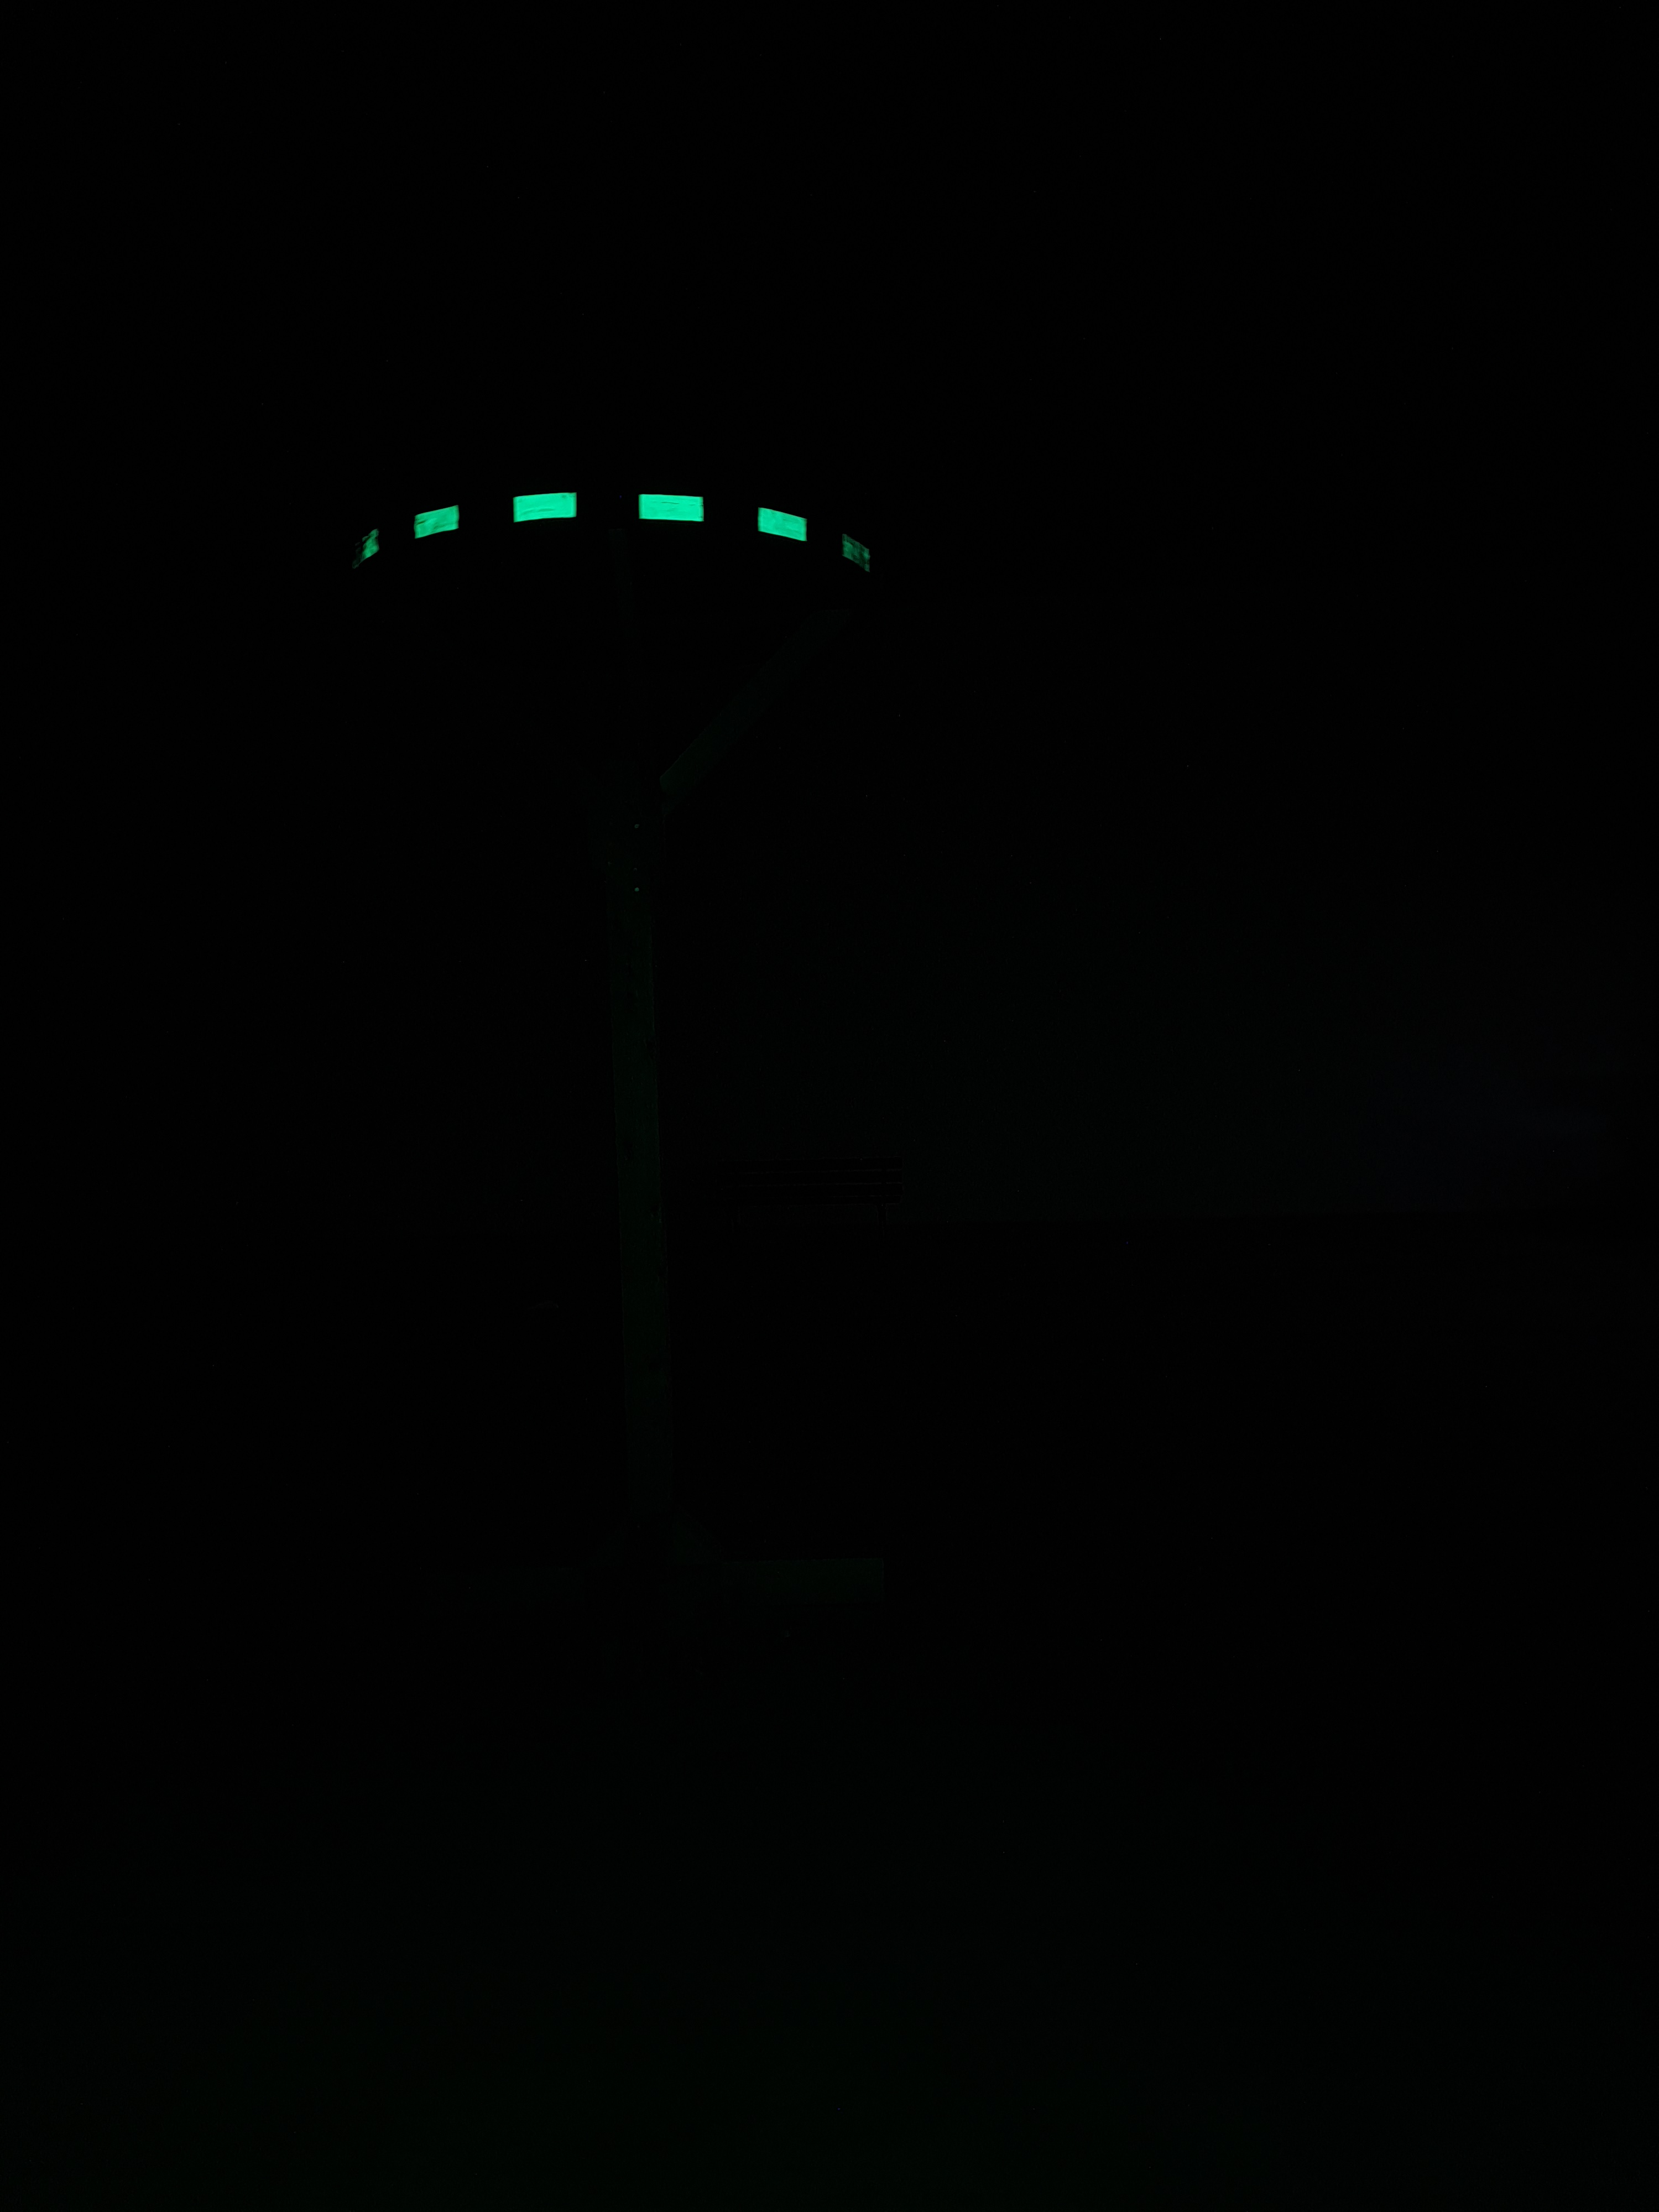hoop: (336, 482, 877, 594)
